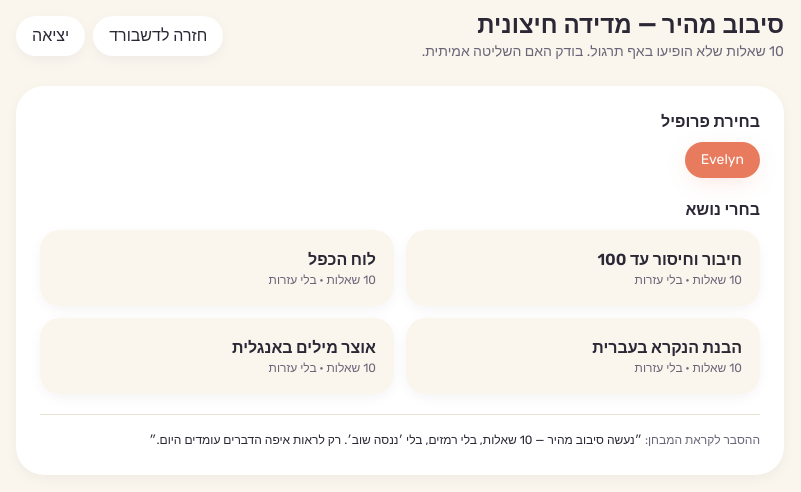
<MeasurementPage> — test stage (no scaffolding) › shows progress 'שאלה 1 מתוך 10' after starting
The image size is (801, 492).
Click the text "חיבור וחיסור עד 100" at x=670, y=260, box [597,250,742,269]
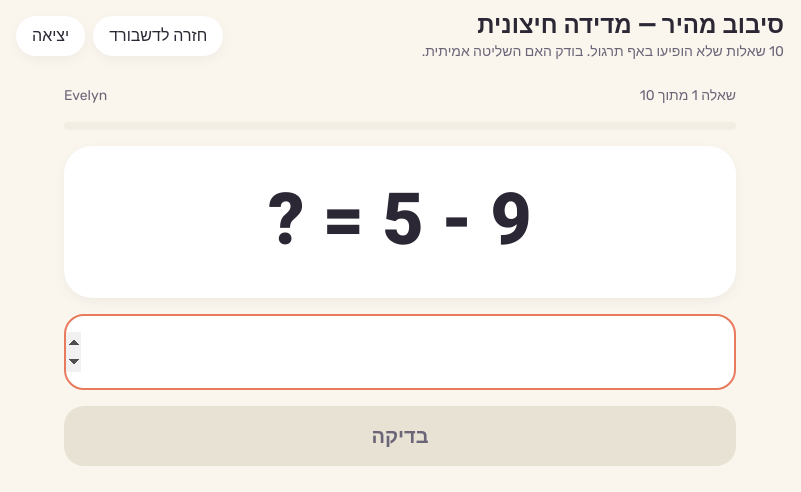
Expected: the text "שאלה 1 מתוך 10" is shown, [640,86,736,106]
